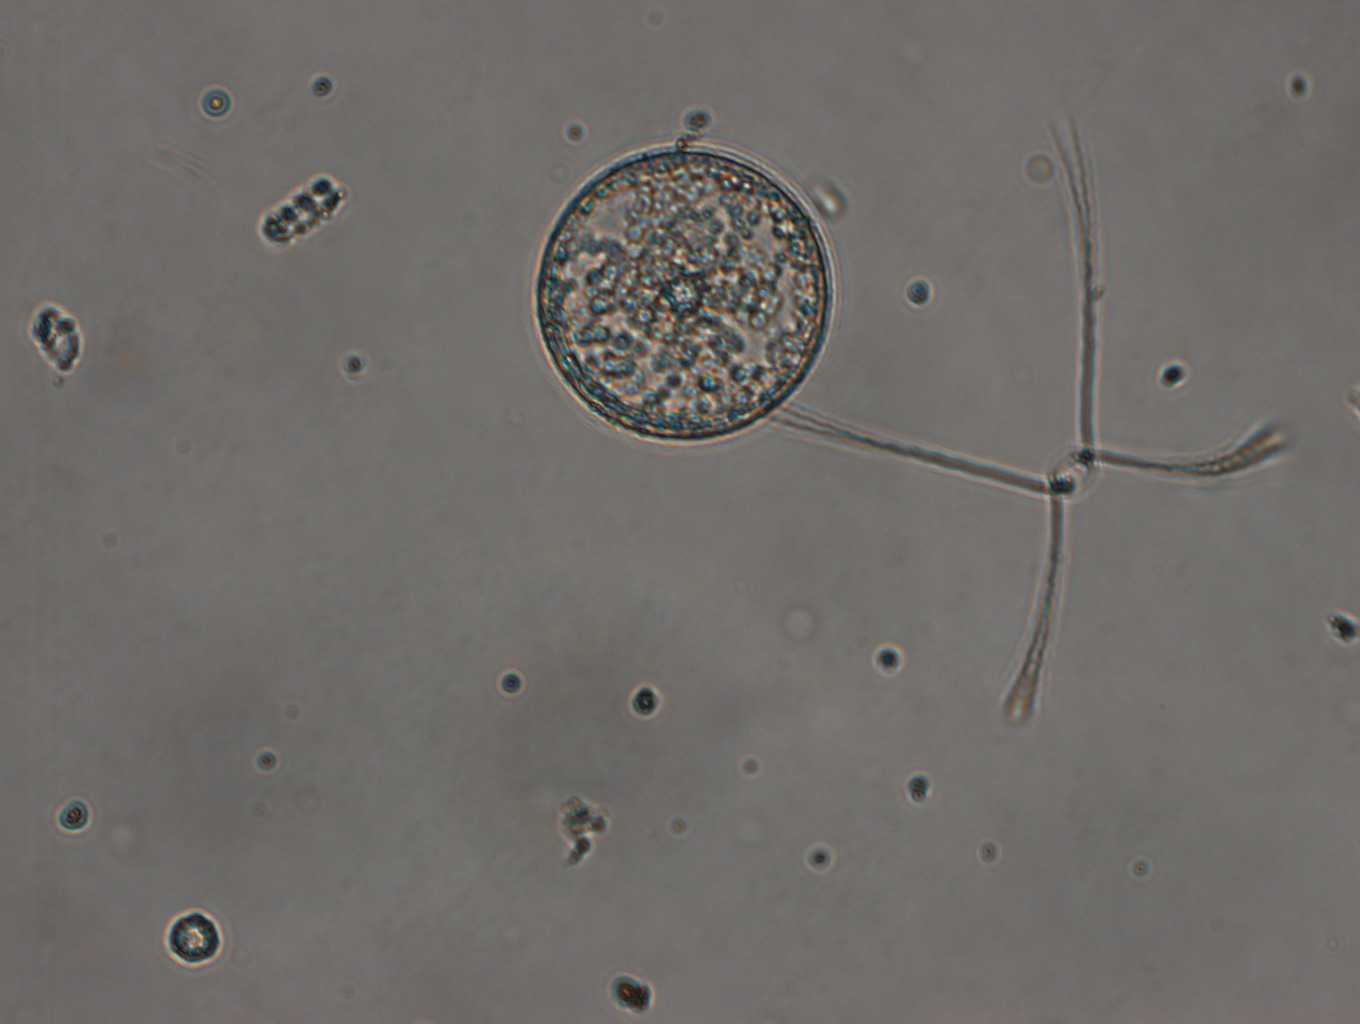chaetoceros: (775, 122, 1284, 722)
coscinodiscus: (527, 131, 838, 450)
